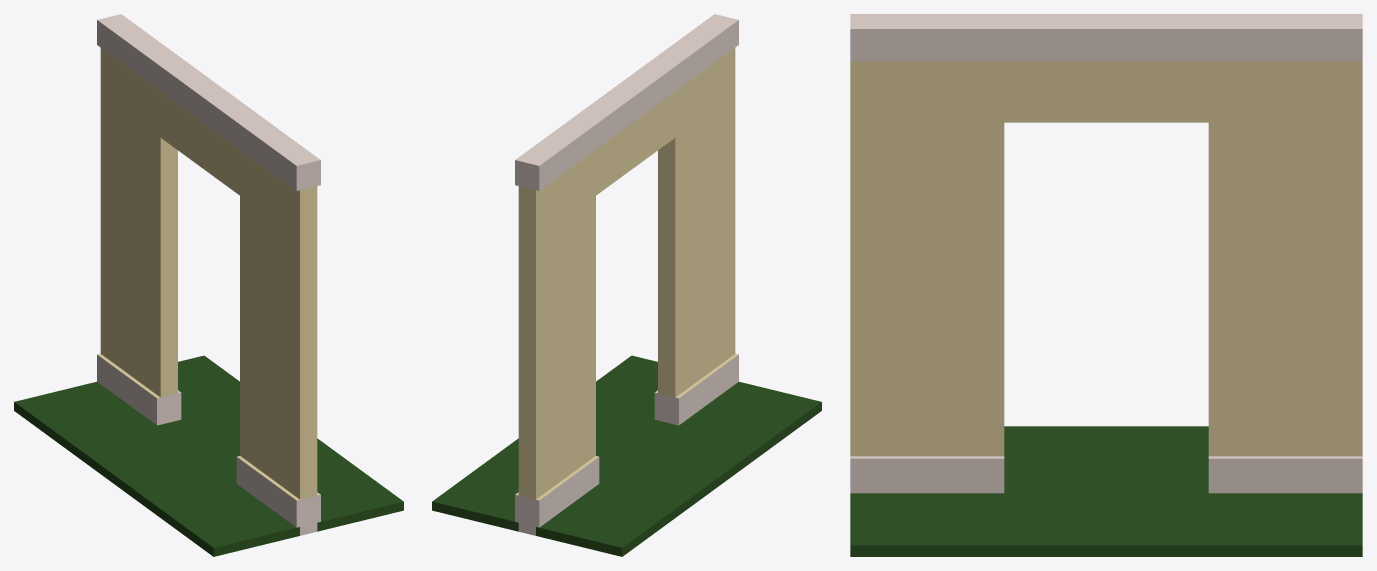
Rendered from Inside Door Wall.fbx.
3 views of the same model, side by side, from view 1: azimuth 30°, elevation 25°; view 2: azimuth 150°, elevation 25°; view 3: azimuth 270°, elevation 25° (orthographic). The views are drawn at different scales.
Parts seen in each view (by area): view 1: Inside Door Wall; view 2: Inside Door Wall; view 3: Inside Door Wall.
Part boxes in pixels (box(x1,y1,x2,y2)): Inside Door Wall: box(14, 14, 403, 556); Inside Door Wall: box(432, 14, 821, 556); Inside Door Wall: box(850, 14, 1362, 556).
Size of the model in its own units: 110 by 205 by 200.
